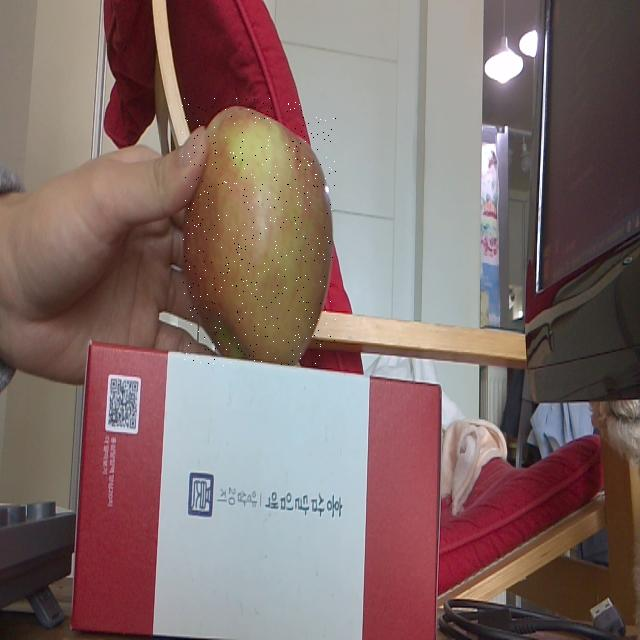apple: (182, 98, 336, 366)
